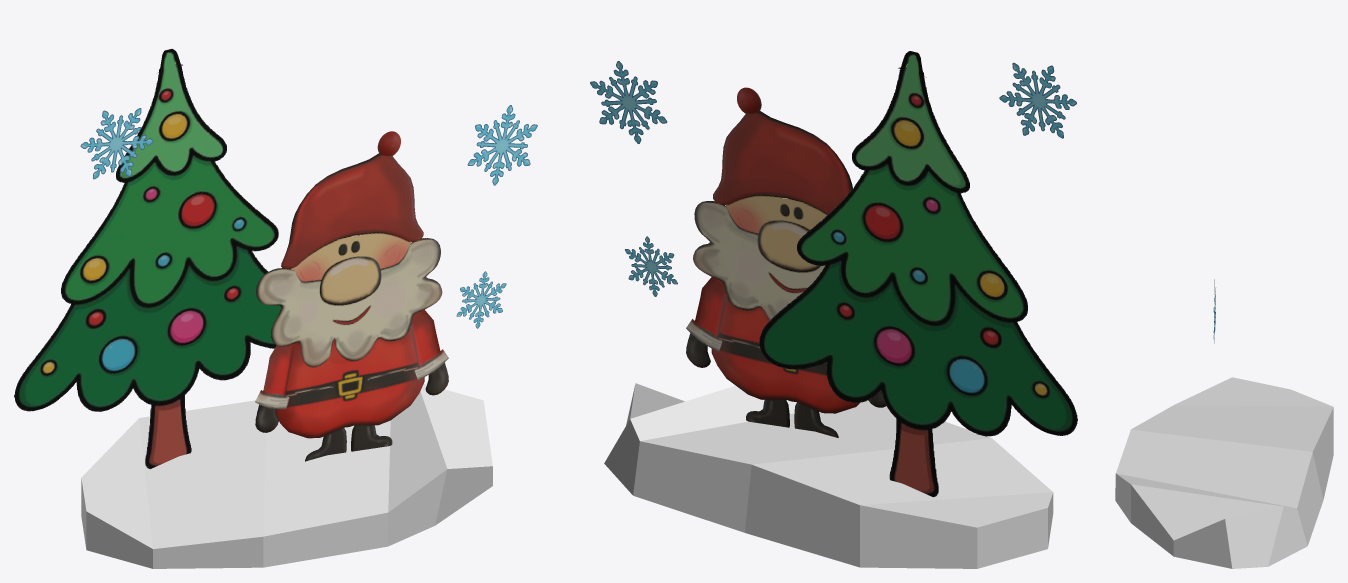
Rendered from presente.glb.
The picture shows the model from 3 angles, left to right: view 1: azimuth 30°, elevation 25°; view 2: azimuth 150°, elevation 25°; view 3: azimuth 270°, elevation 25°; orthographic projection. The views are drawn at different scales.
Visible parts, largest first — view 1: arvore, Circle, papai, Plane.003, Plane.001, Plane.004; view 2: arvore, Circle, papai, Plane.001, Plane.003, Plane.004; view 3: Circle.
Part boxes in pixels (x1=…): arvore: x1=14, y1=49, x2=281, y2=468; Circle: x1=81, y1=383, x2=492, y2=568; papai: x1=255, y1=131, x2=448, y2=461; Plane.003: x1=467, y1=105, x2=537, y2=185; Plane.001: x1=80, y1=108, x2=153, y2=179; Plane.004: x1=456, y1=271, x2=506, y2=328; arvore: x1=759, y1=51, x2=1077, y2=497; Circle: x1=604, y1=383, x2=1053, y2=568; papai: x1=686, y1=87, x2=886, y2=437; Plane.001: x1=999, y1=62, x2=1076, y2=138; Plane.003: x1=590, y1=61, x2=667, y2=143; Plane.004: x1=625, y1=236, x2=677, y2=296; Circle: x1=1115, y1=377, x2=1333, y2=568.
Size of what is drawn, in the model's own units: 2.39 by 2.09 by 1.1.
Materials: 3 (3 with a texture image).
